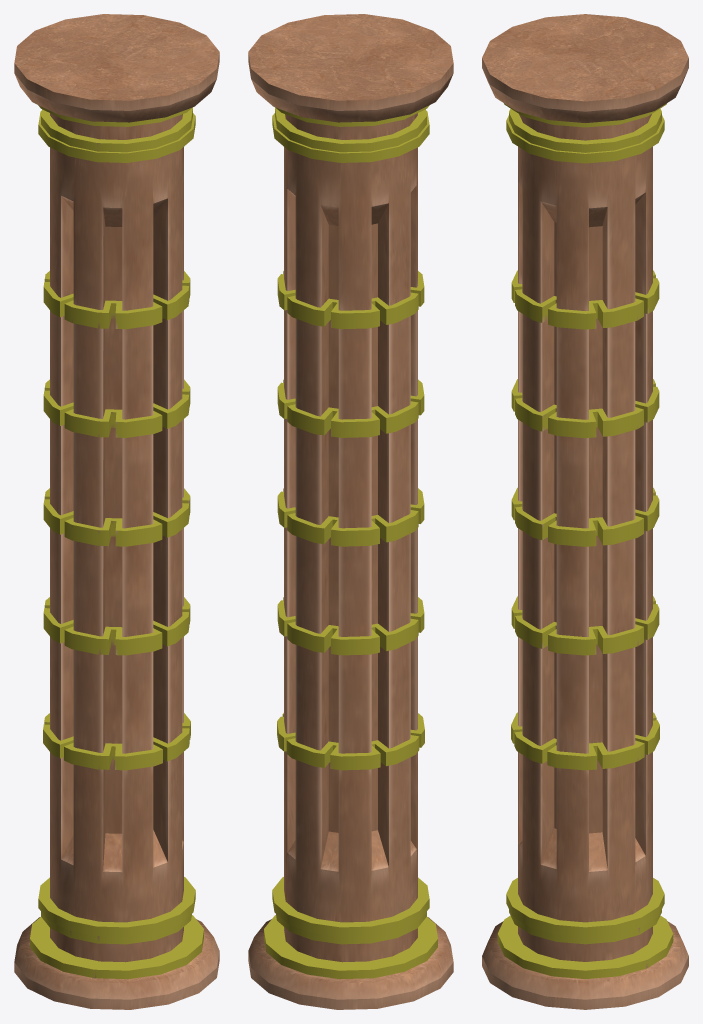
Rendered from Columna2.fbx.
The picture shows the model from 3 angles, left to right: view 1: azimuth 30°, elevation 25°; view 2: azimuth 150°, elevation 25°; view 3: azimuth 270°, elevation 25°; orthographic projection.
Parts seen in each view (by area): view 1: Cylinder.001; view 2: Cylinder.001; view 3: Cylinder.001.
Part boxes in pixels (box(x1,y1,x2,y2)): Cylinder.001: box(14, 14, 219, 1009); Cylinder.001: box(248, 14, 453, 1009); Cylinder.001: box(482, 14, 688, 1009).
Size of the model in its own units: 395 by 1912 by 395.
Materials: 1 (1 with a texture image).
